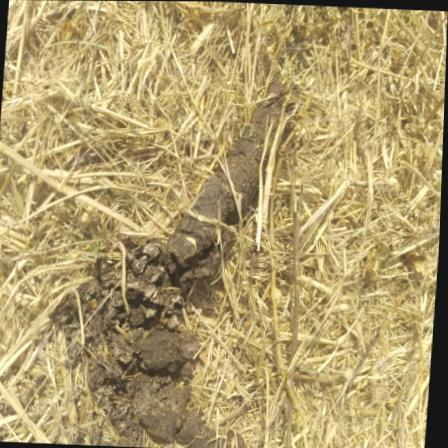dog-poop: (76, 249, 257, 448), (179, 60, 300, 294)
